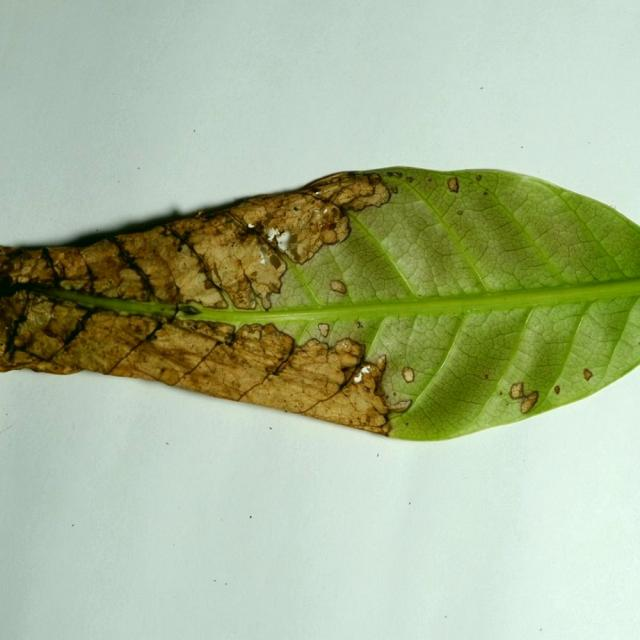Anthracnose: (227, 185, 354, 267), (56, 311, 156, 375), (304, 378, 386, 431), (75, 237, 143, 300), (280, 339, 355, 392), (197, 346, 272, 397), (202, 239, 258, 304), (151, 324, 232, 366), (177, 248, 232, 309), (11, 312, 75, 364), (235, 242, 287, 300), (246, 325, 295, 372), (165, 212, 237, 243), (47, 244, 92, 286), (177, 316, 238, 344), (239, 197, 283, 230), (345, 179, 391, 209), (298, 337, 331, 366), (4, 348, 39, 369), (25, 302, 53, 327)
Mango: (0, 166, 639, 444)
